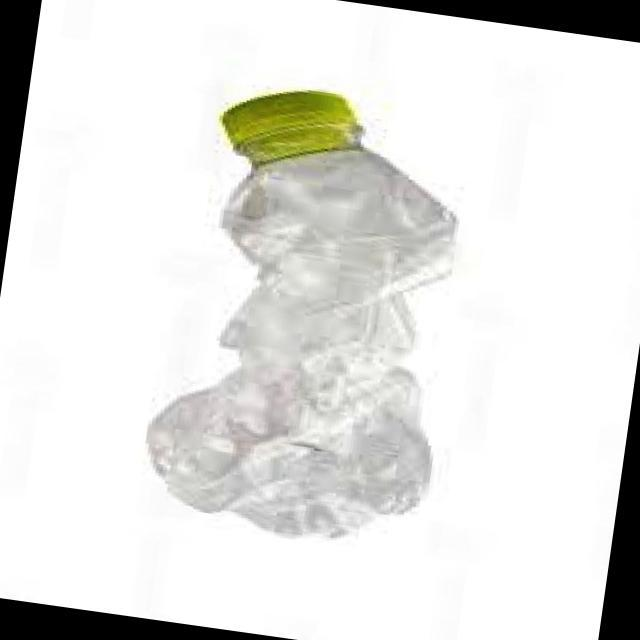defected: (126, 75, 500, 554)
